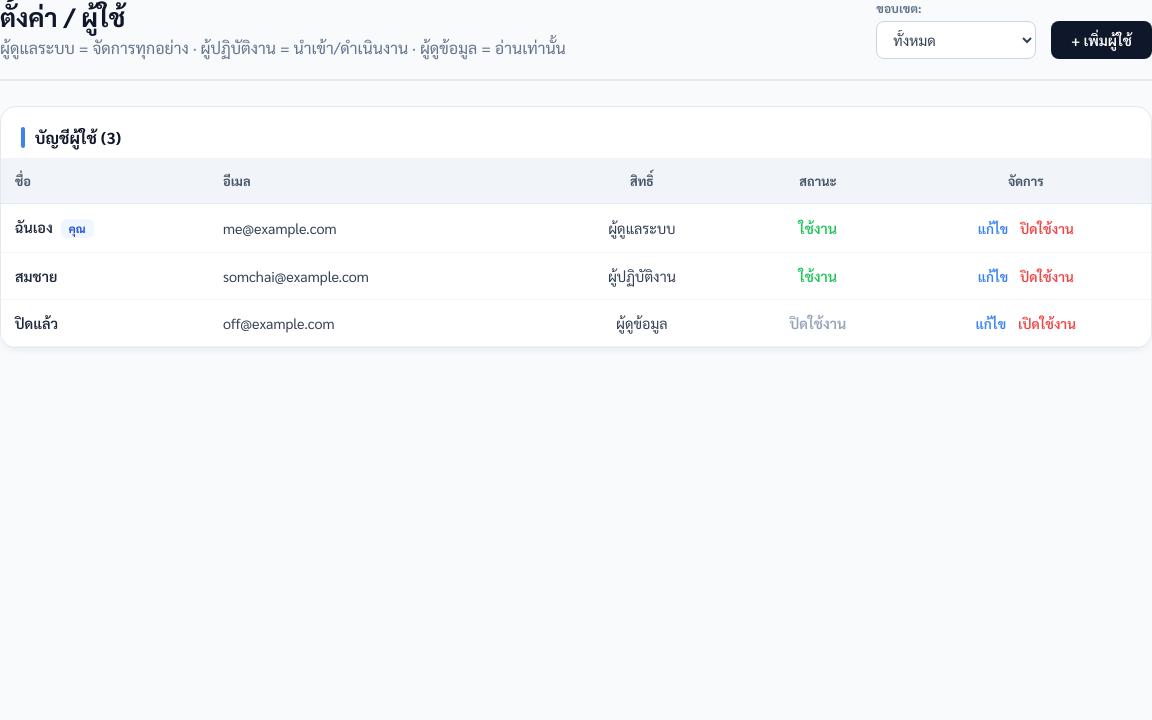
Test case: UsersPage › แก้ไขบัญชีตัวเอง → ช่องสิทธิ์ถูกล็อกพร้อมคำอธิบาย
What coordinates should you click on to do the following:
click the button "แก้ไข" in the row of "ฉันเอง"
I would click on:
 (993, 228)
Its box is 978,219 -> 1008,237.
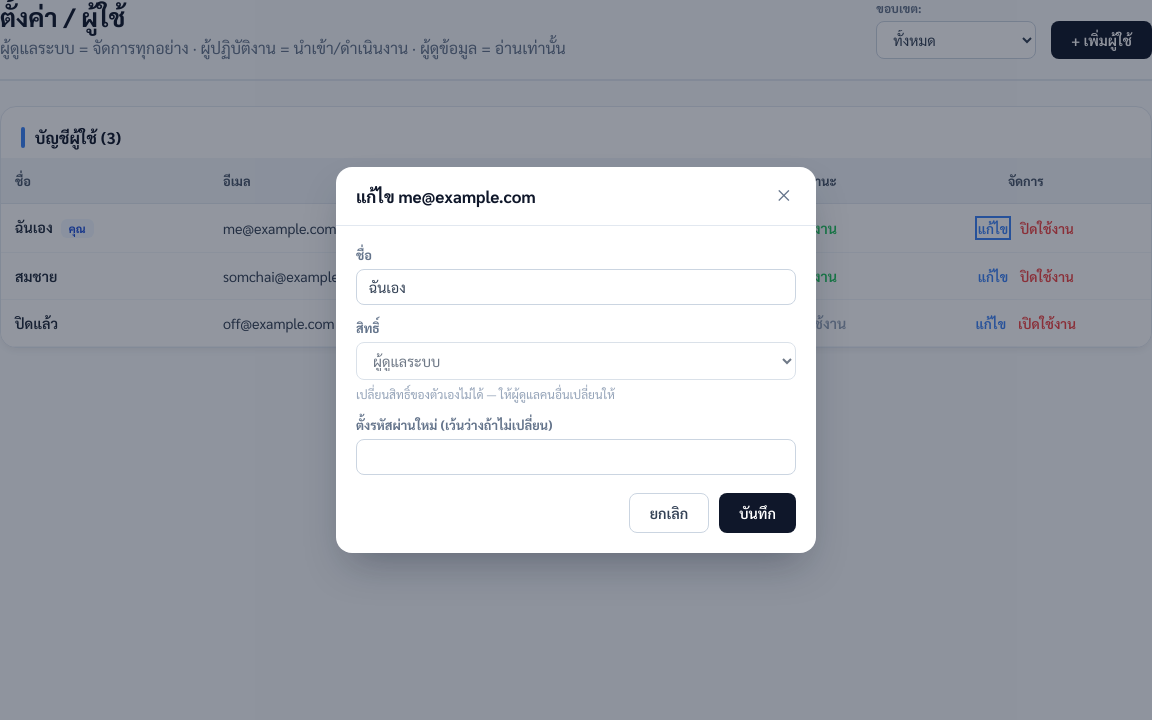
Now the dropdown labelled "สิทธิ์" is disabled, box 356,342 -> 796,380
Now the text "เปลี่ยนสิทธิ์ของตัวเองไม่ได้ — ให้ผู้ดูแลคนอื่นเปลี่ยนให้" is shown, box 356,386 -> 615,402
